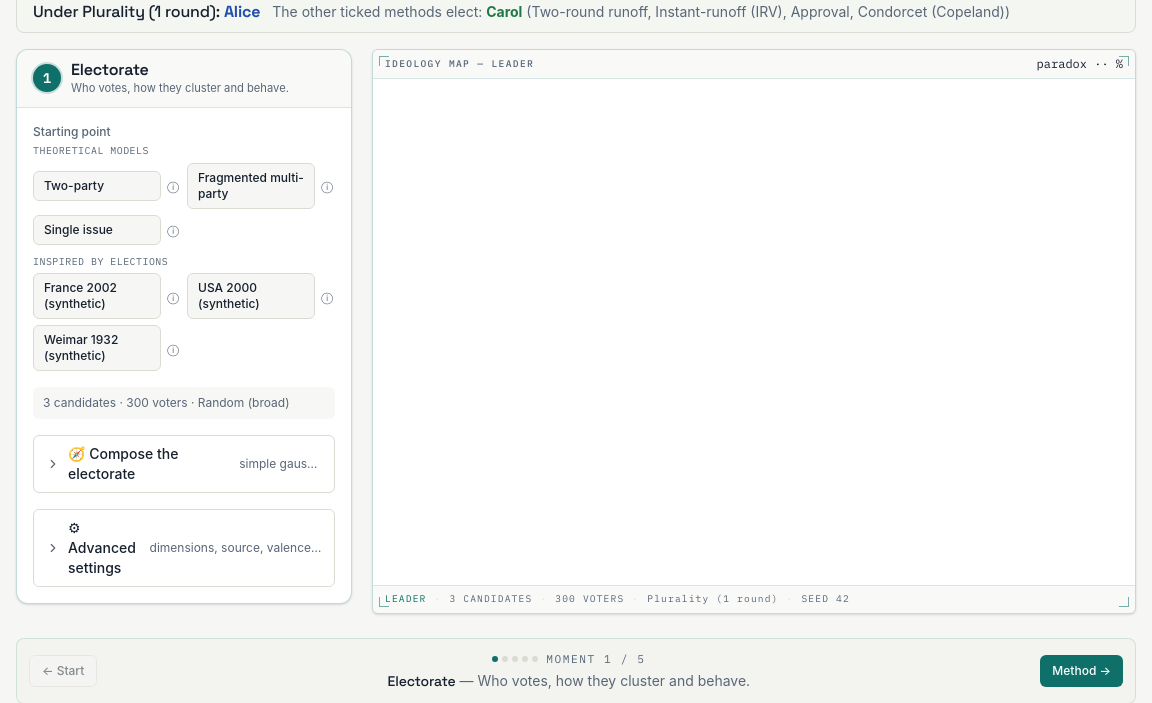
Test: PlaygroundPage (P0 shell) › the sample controls (voter count, seed, ideology) update the shared config
(page scrolled)
Click the button with test id "module-electorate-toggle" at (123, 454), box [34, 436, 334, 492]
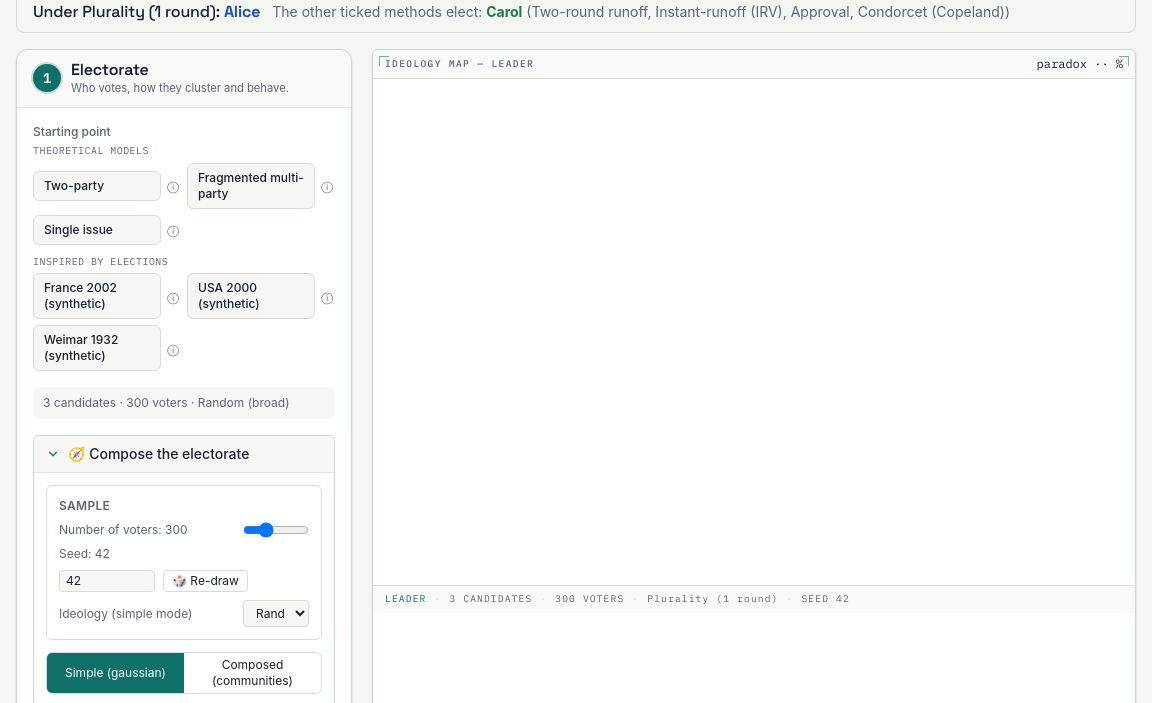
# Voter count + seed apply in both modes (simple by default).
Set the slider with test id "electorate-num-voters" to "750" at (288, 530), box [243, 522, 309, 538]
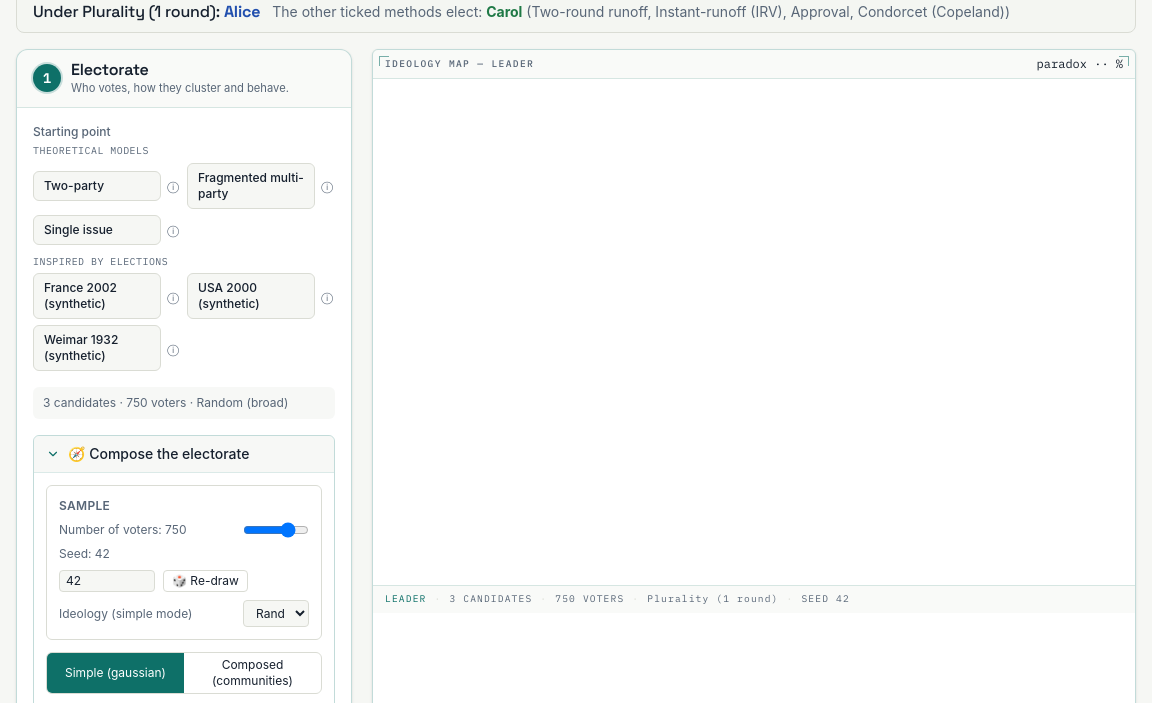
Replace the text in the number field with test id "electorate-seed" with "1234" at (107, 581), box [59, 570, 155, 592]
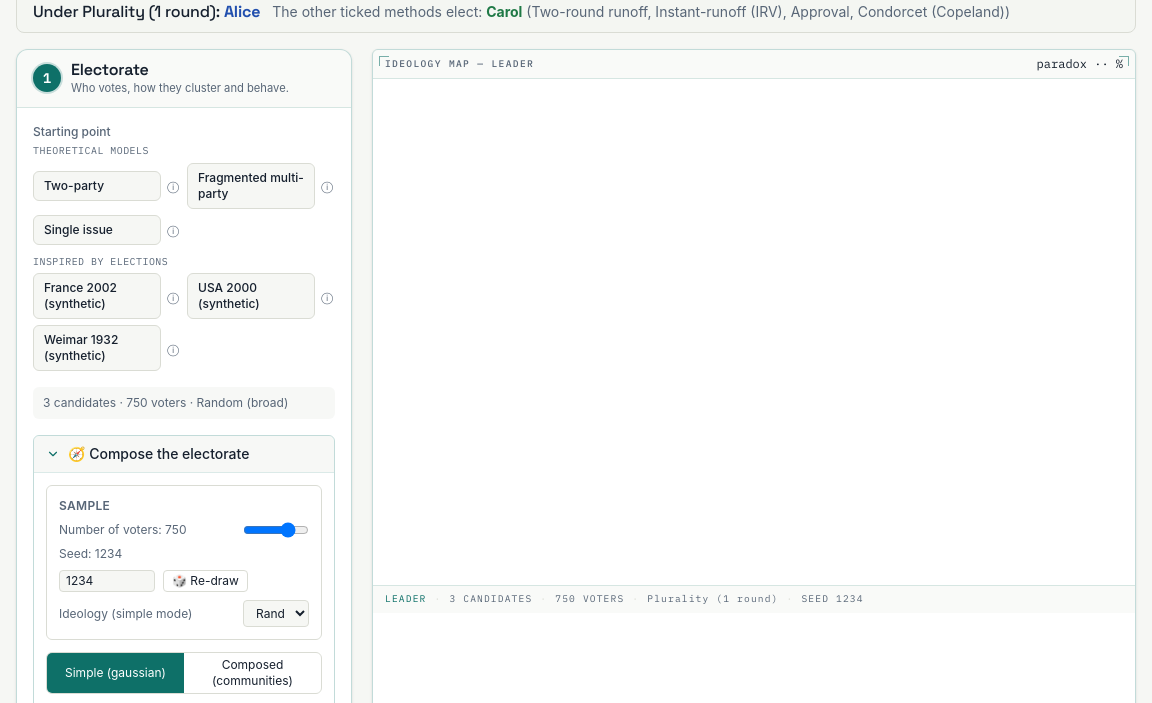
# Re-roll changes the seed to something else (new electorate draw).
Click the button with test id "electorate-seed-reroll" at (205, 581), box [163, 570, 248, 592]
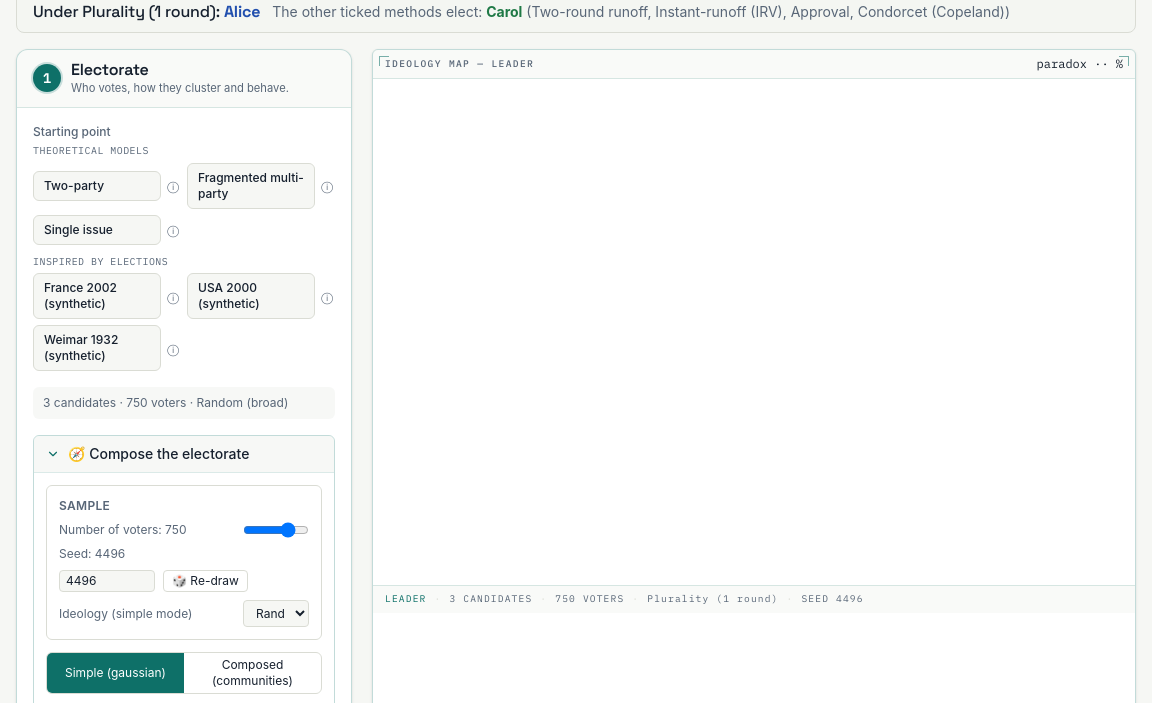
# Ideology is a simple-mode-only knob (composed overrides it).
Select "Polarised (two camps)" in the dropdown with test id "electorate-ideology" at (276, 614), box [243, 600, 309, 627]
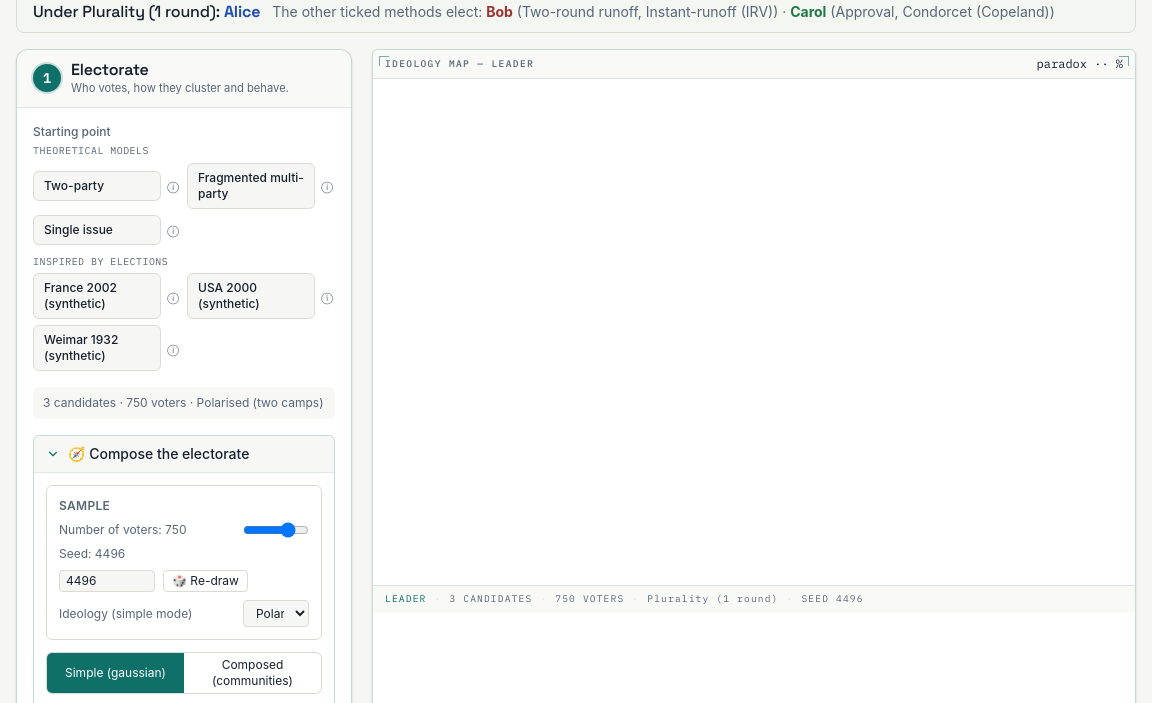
Click the button with test id "electorate-mode-composed" at (252, 673), box [184, 653, 321, 693]
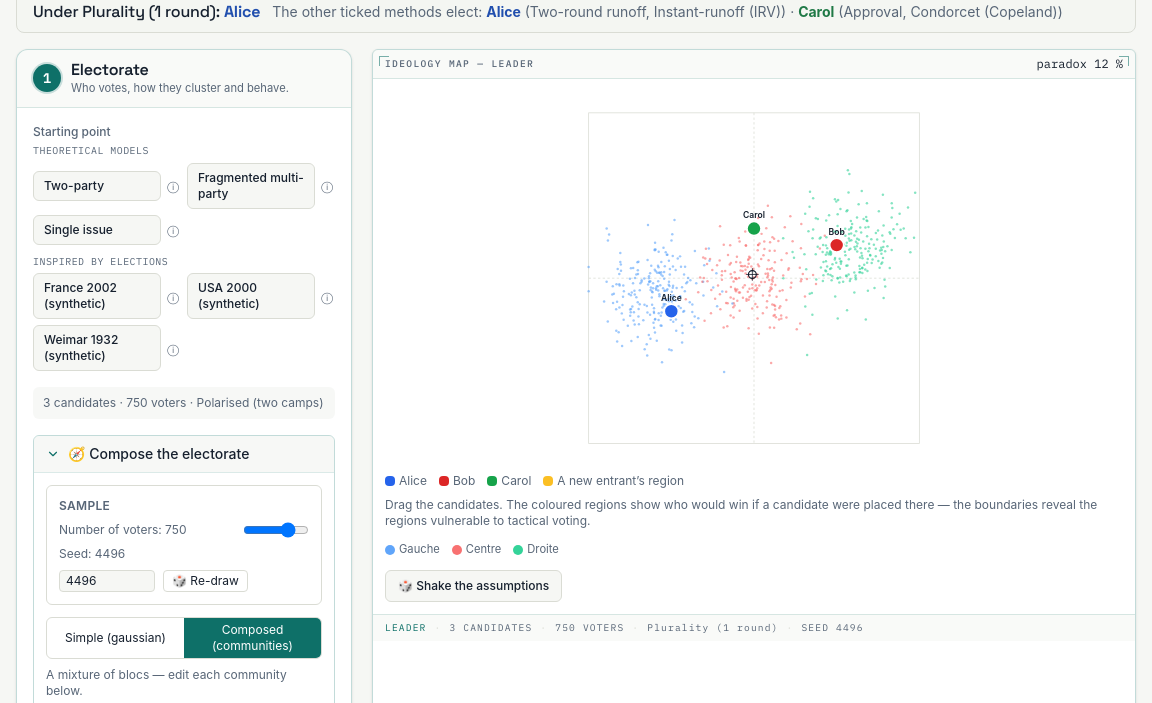
Expected: the dropdown with test id "electorate-ideology" is gone
